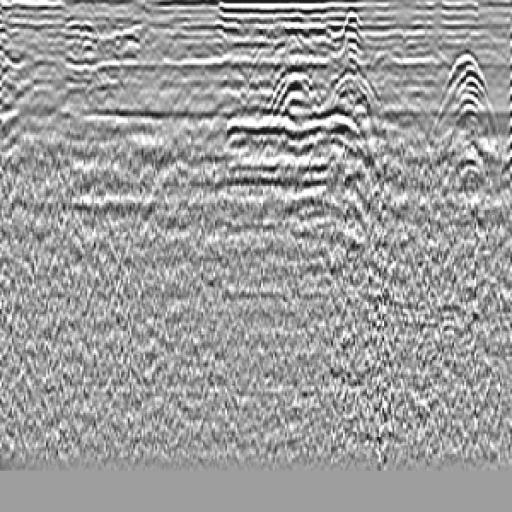metalic: (321, 8, 402, 237)
nonmetalic: (421, 37, 509, 172), (246, 43, 324, 173)
